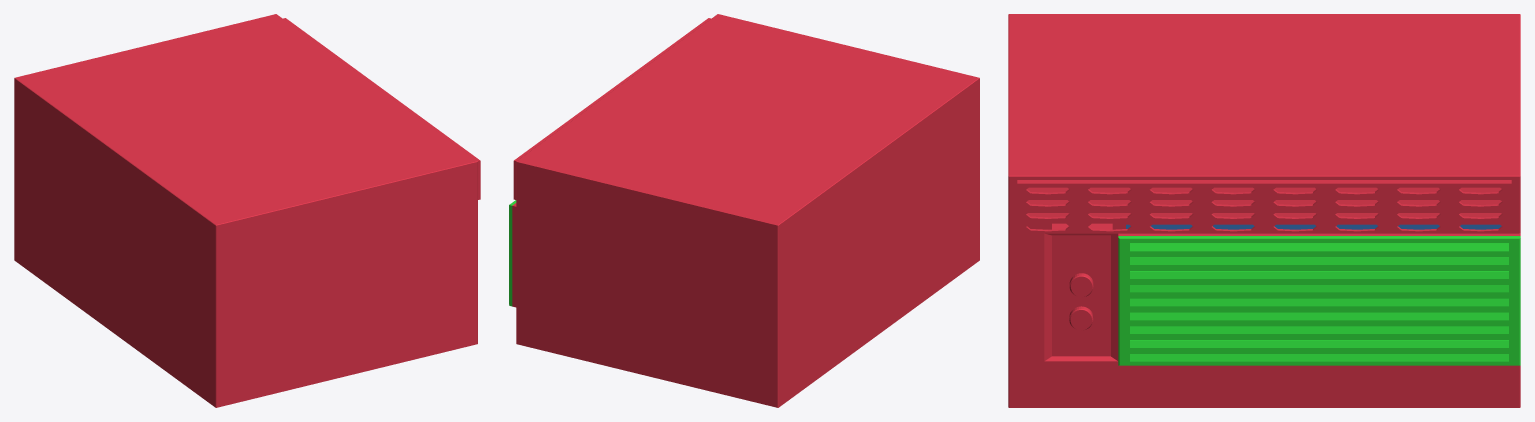
File: TMIARM_Appliances.fbx
3 renders of one model, left to right at view 1: azimuth 30°, elevation 25°; view 2: azimuth 150°, elevation 25°; view 3: azimuth 270°, elevation 25°, orthographic. The views are drawn at different scales.
Visible parts, largest first — view 1: Main Unit; view 2: Main Unit, FrontVents; view 3: Main Unit, FrontVents, Filter.
Part boxes in pixels (x1=…): Main Unit: x1=14, y1=14, x2=480, y2=407; Main Unit: x1=512, y1=14, x2=979, y2=407; FrontVents: x1=509, y1=200, x2=516, y2=306; Main Unit: x1=1008, y1=14, x2=1520, y2=407; FrontVents: x1=1118, y1=236, x2=1520, y2=365; Filter: x1=1126, y1=224, x2=1501, y2=229.
Bounding box in the file's own units: 156 × 100 × 200.
